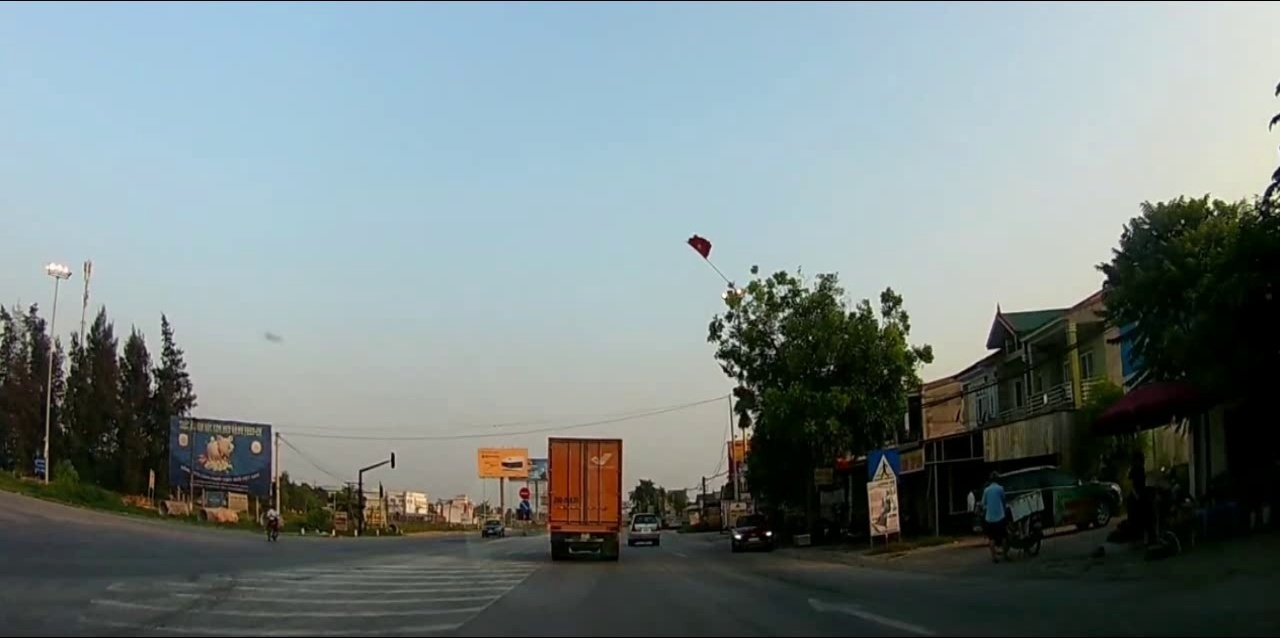Cam di nguoc chieu: (518, 486, 530, 498)
Huong di phai re phai: (519, 500, 530, 511)
Nguoi di bo: (866, 447, 900, 480)
